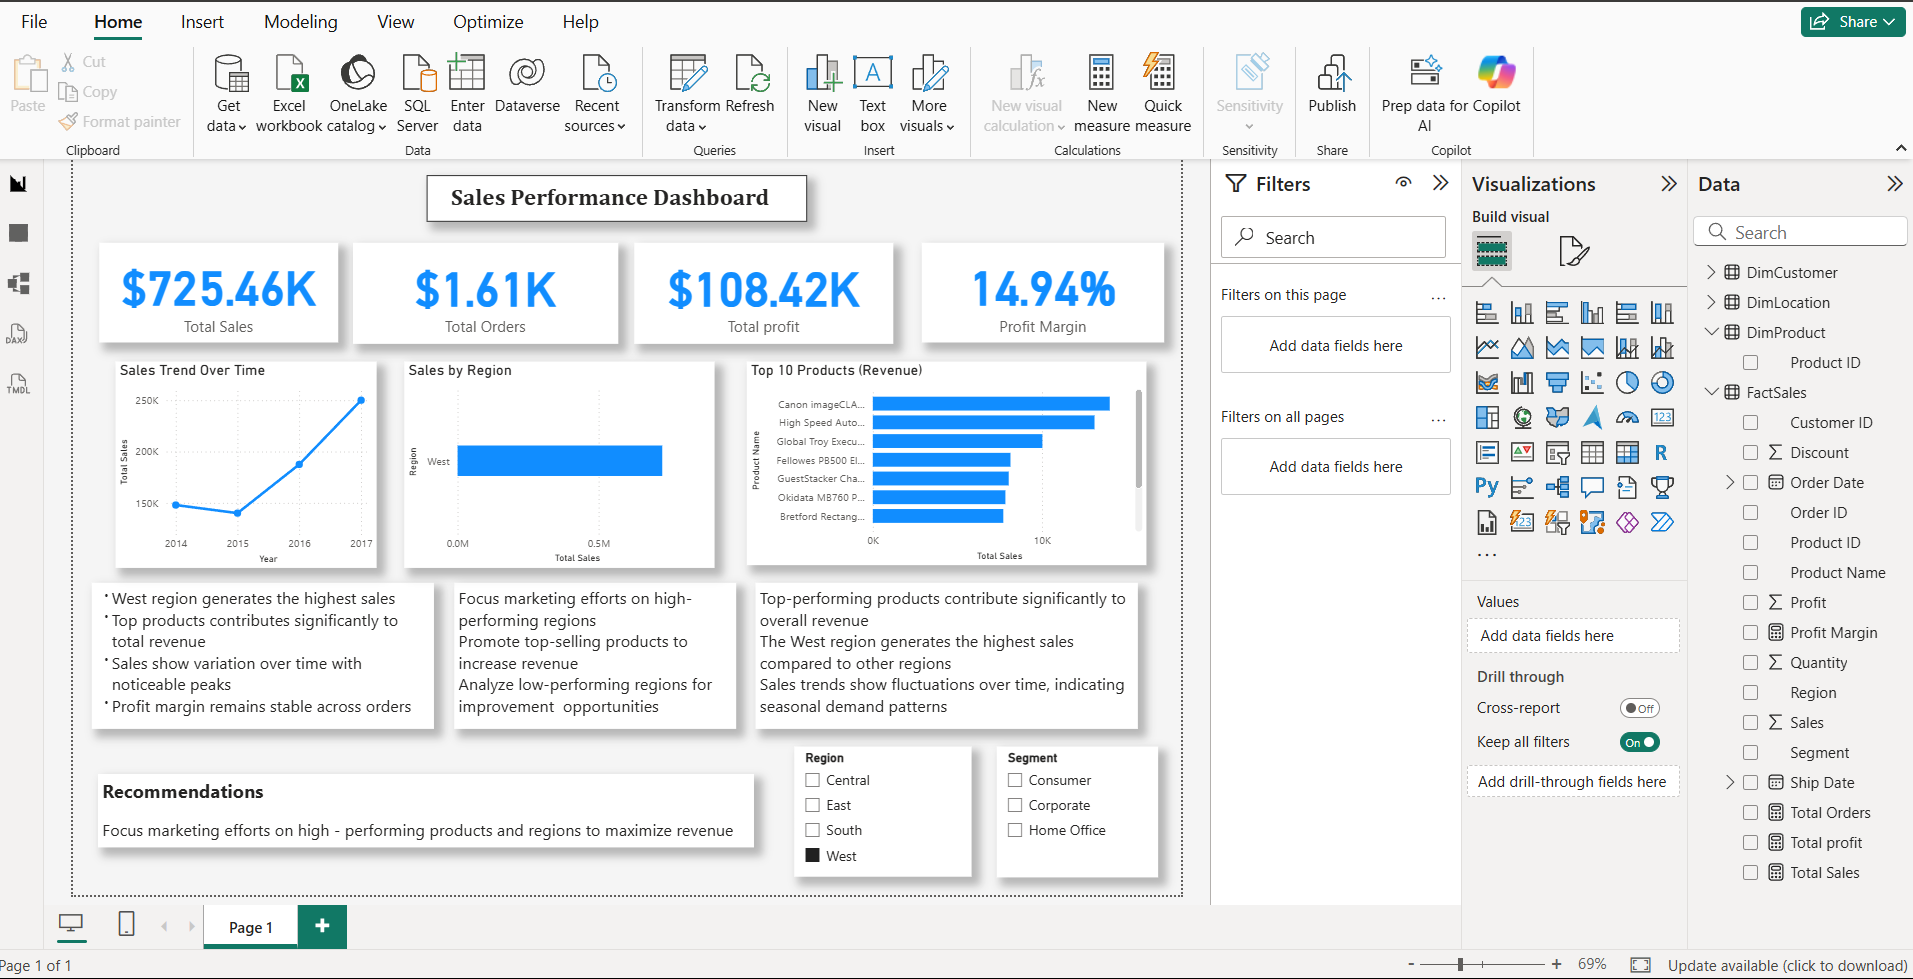

The dashboard page shown, as its layout file describes it:
{"tool":"powerbi","page":{"name":"Sales Performance Dashboard","canvas":[1280,850],"ordinal":0},"visuals":[{"type":"textbox","box":[22,489.9,395.2,168.8],"z":0},{"type":"textbox","box":[439.8,489.9,325.2,168.8],"z":1000},{"type":"card","fields":{"Values":["FactSales.Total Sales","select"]},"box":[30.2,97.4,275.8,115.3],"z":2000},{"type":"card","fields":{"Values":["FactSales.Total Orders"]},"box":[323.9,96.1,306,116.6],"z":3000},{"type":"card","fields":{"Values":["FactSales.Total profit"]},"box":[647.9,96.1,299.1,116.6],"z":4000},{"type":"clusteredBarChart","title":"Top 10 Products (Revenue)","fields":{"Y":["FactSales.Total Sales"],"Category":["FactSales.Product Name"]},"box":[778.1,233.9,462,235.3],"z":5000},{"type":"card","fields":{"Values":["FactSales.Profit Margin"]},"box":[980.2,96.7,280.1,115.5],"z":6000},{"type":"lineChart","title":" Sales Trend Over Time","fields":{"Category":["FactSales.Order Date.Variation.Date Hierarchy.Year","FactSales.Order Date.Variation.Date Hierarchy.Month"],"Y":["FactSales.Total Sales"]},"box":[49.4,233.3,301.9,238.8],"z":7000},{"type":"clusteredBarChart","title":"Sales by Region","fields":{"Category":["FactSales.Region"],"Y":["FactSales.Total Sales"]},"box":[382.6,233.9,358,238.2],"z":8000},{"type":"textbox","box":[787.7,489.9,441.9,168.8],"z":9000},{"type":"textbox","box":[28.9,710.3,757.9,85.2],"z":10000},{"type":"textbox","box":[408.9,19.2,439.1,53.5],"z":11000},{"type":"slicer","fields":{"Values":["FactSales.Region"]},"box":[833,678.5,205,150.1],"z":12000},{"type":"slicer","fields":{"Values":["FactSales.Segment"]},"box":[1067.1,678.5,186,151],"z":13000}]}

Visuals, with their boxes on the page's 1280x850 design canvas (x1, y1, x2, y2). These are canvas units, not pixel positions in the 1913x979 screenshot, which may show the page scaled, cropped or inside an application window:
textbox: detection(22, 490, 417, 659)
textbox: detection(440, 490, 765, 659)
card - FactSales.Total Sales x select: detection(30, 97, 306, 213)
card - FactSales.Total Orders: detection(324, 96, 630, 213)
card - FactSales.Total profit: detection(648, 96, 947, 213)
"Top 10 Products (Revenue)" clusteredBarChart: detection(778, 234, 1240, 469)
card - FactSales.Profit Margin: detection(980, 97, 1260, 212)
" Sales Trend Over Time" lineChart: detection(49, 233, 351, 472)
"Sales by Region" clusteredBarChart: detection(383, 234, 741, 472)
textbox: detection(788, 490, 1230, 659)
textbox: detection(29, 710, 787, 796)
textbox: detection(409, 19, 848, 73)
slicer - FactSales.Region: detection(833, 678, 1038, 829)
slicer - FactSales.Segment: detection(1067, 678, 1253, 830)
